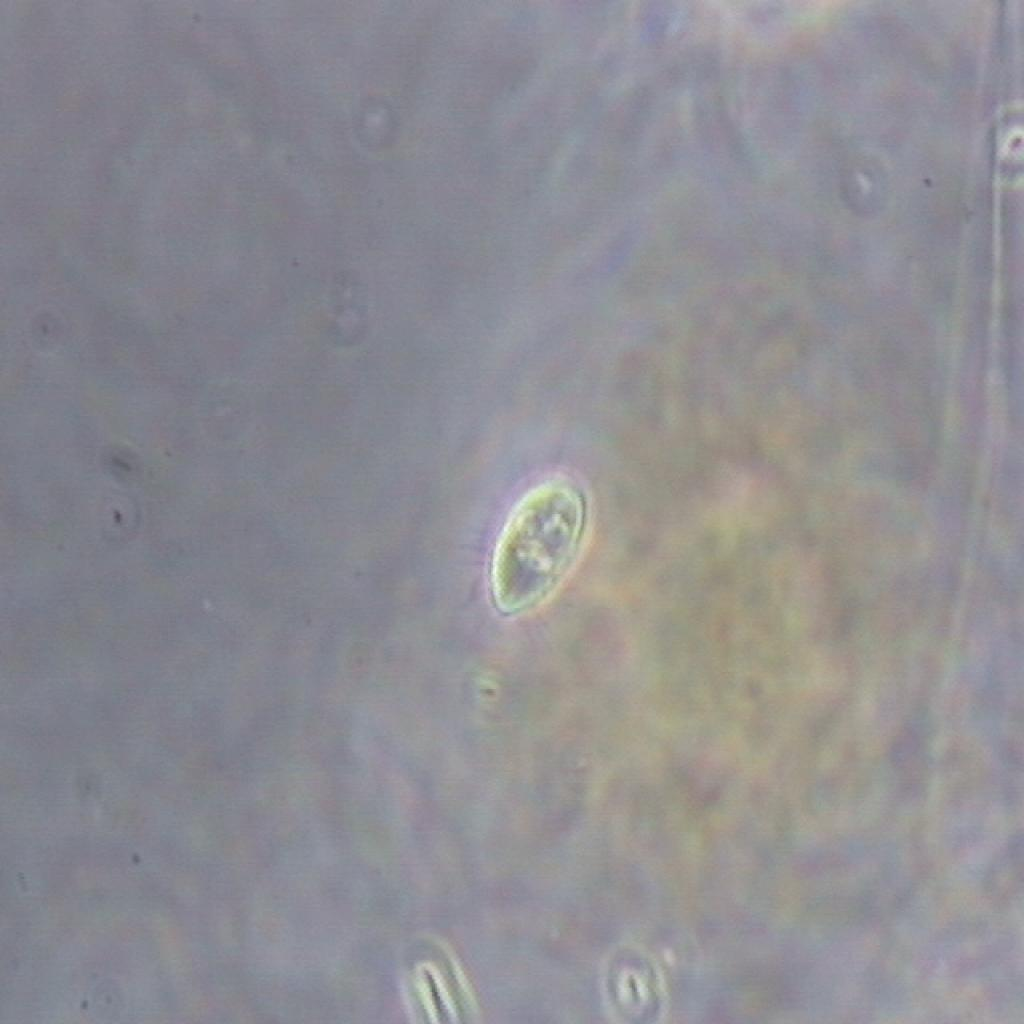Cyclidium: (444, 438, 601, 652)
